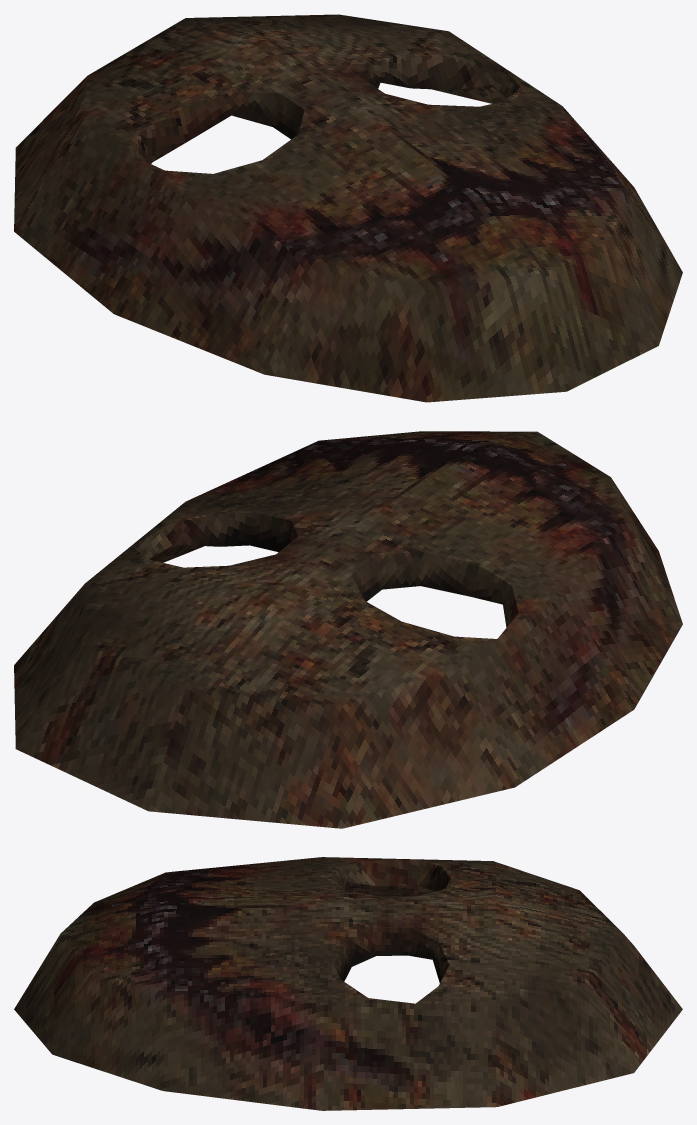
The model's file is mask_mx_2.glb.
3 views of the same model, one above another, from view 1: azimuth 30°, elevation 25°; view 2: azimuth 150°, elevation 25°; view 3: azimuth 270°, elevation 25° (orthographic). The views are drawn at different scales.
Visible parts, largest first — view 1: mask_mx_2; view 2: mask_mx_2; view 3: mask_mx_2.
Boxes of the visible parts, <box> form: mask_mx_2: <box>14,14,682,402</box>; mask_mx_2: <box>14,431,682,828</box>; mask_mx_2: <box>14,857,682,1110</box>.
Size of the model in its own units: 0.2297 by 0.0554 by 0.3198.
1 material, 1 textured.
